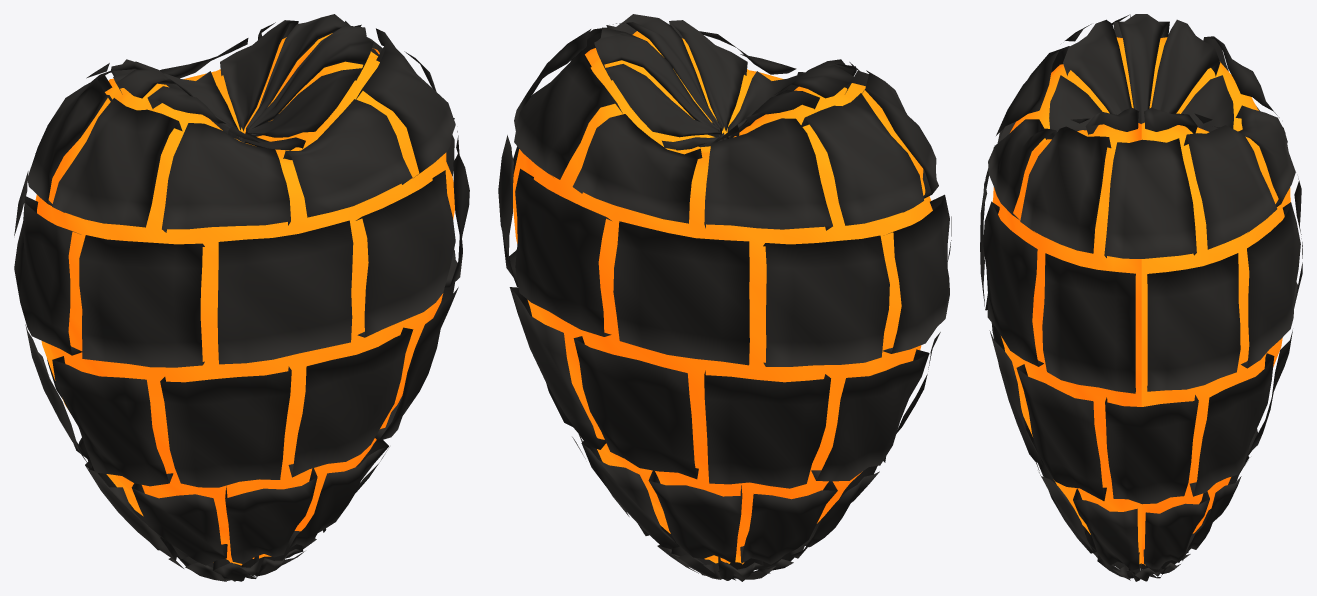
File: molten_heart.glb
The picture shows the model from 3 angles, left to right: view 1: azimuth 30°, elevation 25°; view 2: azimuth 150°, elevation 25°; view 3: azimuth 270°, elevation 25°; orthographic projection. The views are drawn at different scales.
Parts seen in each view (by area): view 1: Charred porous basalt shell, Orange molten stone; view 2: Charred porous basalt shell, Orange molten stone; view 3: Charred porous basalt shell, Orange molten stone.
Boxes of the visible parts, box(x1,y1,x2,y2) form: Charred porous basalt shell: box(14, 14, 469, 581); Orange molten stone: box(35, 33, 454, 565); Charred porous basalt shell: box(498, 14, 951, 581); Orange molten stone: box(513, 31, 932, 564); Charred porous basalt shell: box(980, 14, 1302, 581); Orange molten stone: box(992, 37, 1290, 565).
Size of the model in its own units: 0.0914 by 0.1092 by 0.0628.
